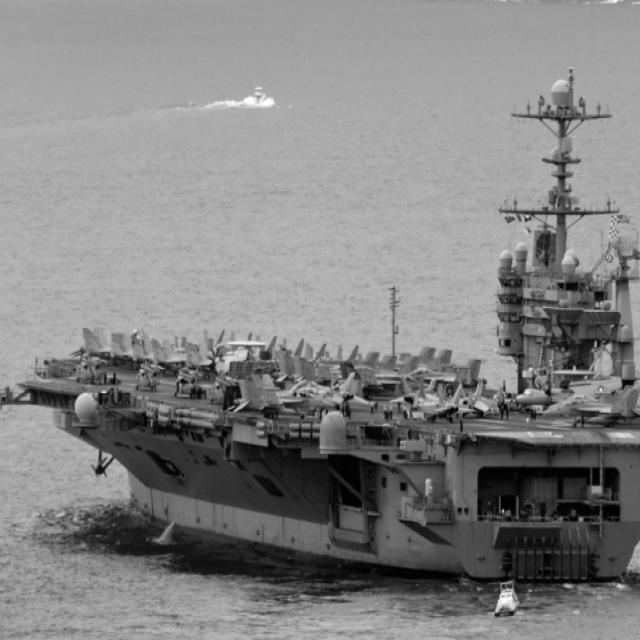Portanaves: (1, 61, 640, 613)
